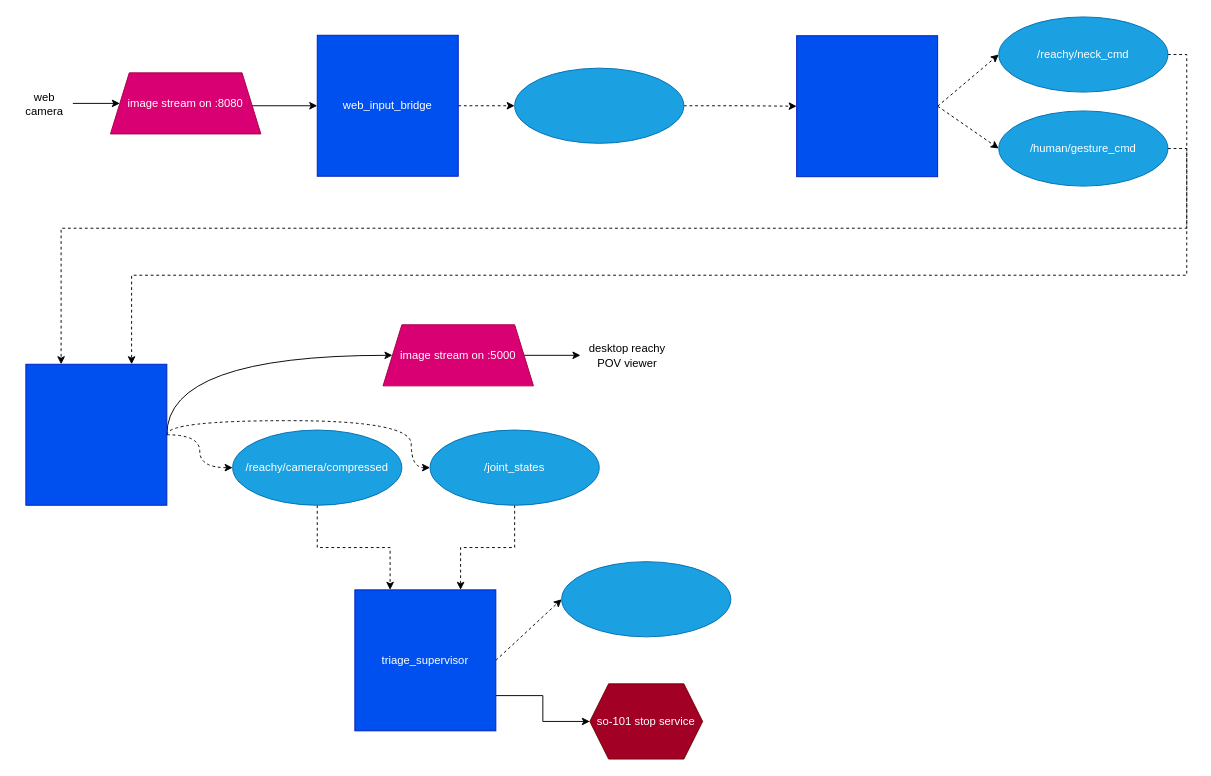
Image size: 1211x776. Some labels were removed from this diagram. Here are the shapes that lost their labels. From the top down, the centre of each, then its label:
At point 599,105: "/human/camera/compressed".
At point 867,106: "perception_processor".
At point 96,434: "simulation_control".
At point 646,599: "/sys/triage_status".
